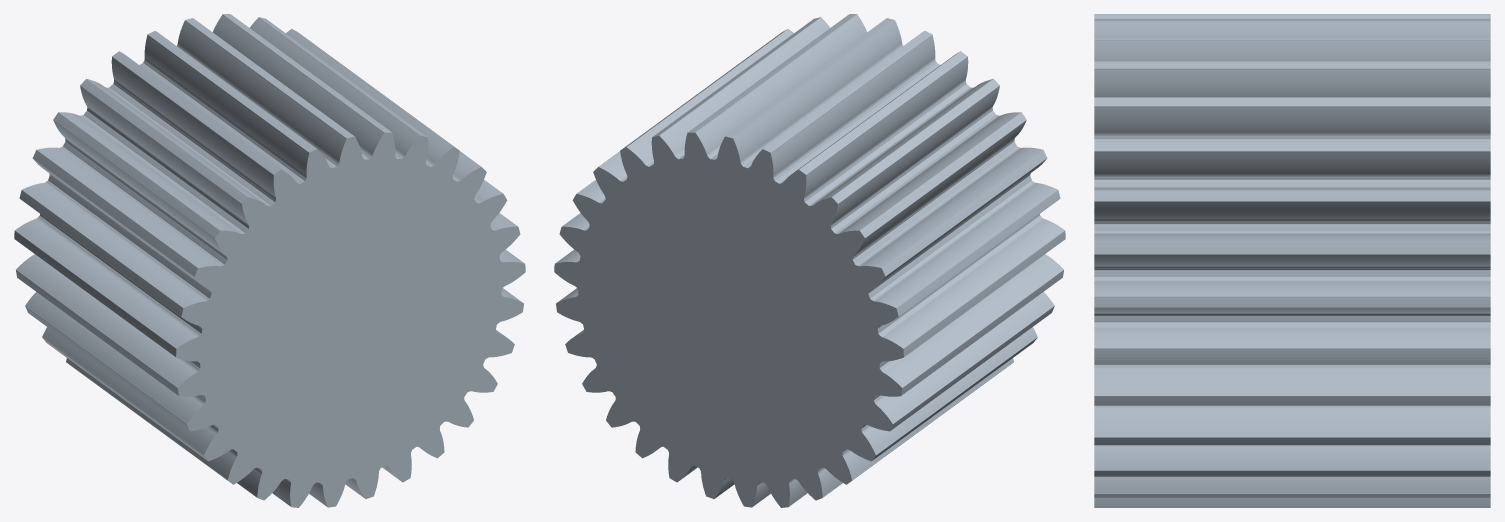
Rendered from pargear4.obj.
3 views of the same model, side by side, from view 1: azimuth 30°, elevation 25°; view 2: azimuth 150°, elevation 25°; view 3: azimuth 270°, elevation 25° (orthographic). The views are drawn at different scales.
Visible parts, largest first — view 1: 1; view 2: 1; view 3: 1.
Boxes of the visible parts, bbox=[...] form: 1: bbox=[14, 14, 525, 507]; 1: bbox=[554, 14, 1065, 507]; 1: bbox=[1094, 14, 1490, 507].
Bounding box in the file's own units: 162 × 162 × 130.
